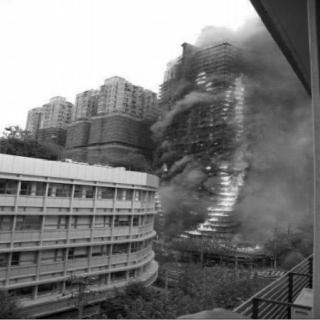Smoke: (200, 24, 293, 81)
